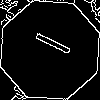I: (25, 25, 72, 58)
